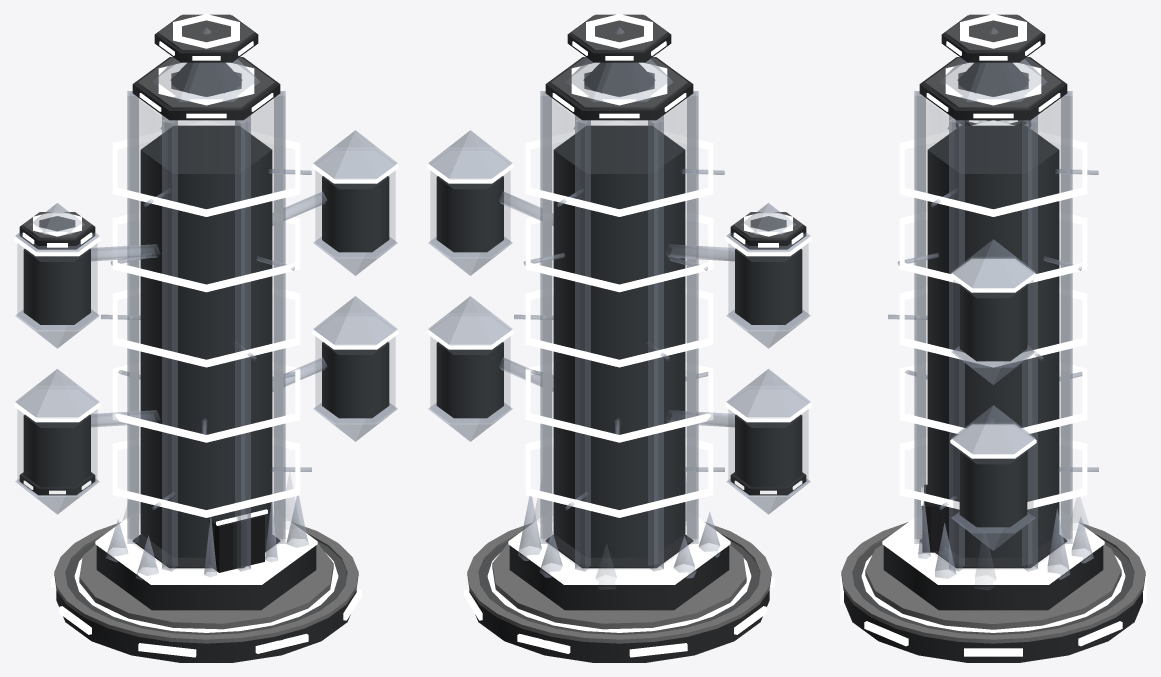
Rendered from Skin_Crystal_T4.glb.
3 renders of one model, left to right at view 1: azimuth 30°, elevation 25°; view 2: azimuth 150°, elevation 25°; view 3: azimuth 270°, elevation 25°, orthographic.
Visible parts, largest first — view 1: Skin_Crystal_T4; view 2: Skin_Crystal_T4; view 3: Skin_Crystal_T4.
Boxes of the visible parts, left/top/right/bottom form: Skin_Crystal_T4: left=14, top=14, right=398, bottom=662; Skin_Crystal_T4: left=427, top=14, right=811, bottom=662; Skin_Crystal_T4: left=840, top=14, right=1146, bottom=662.
Bounding box in the file's own units: 5.72 × 8.64 × 4.18.
